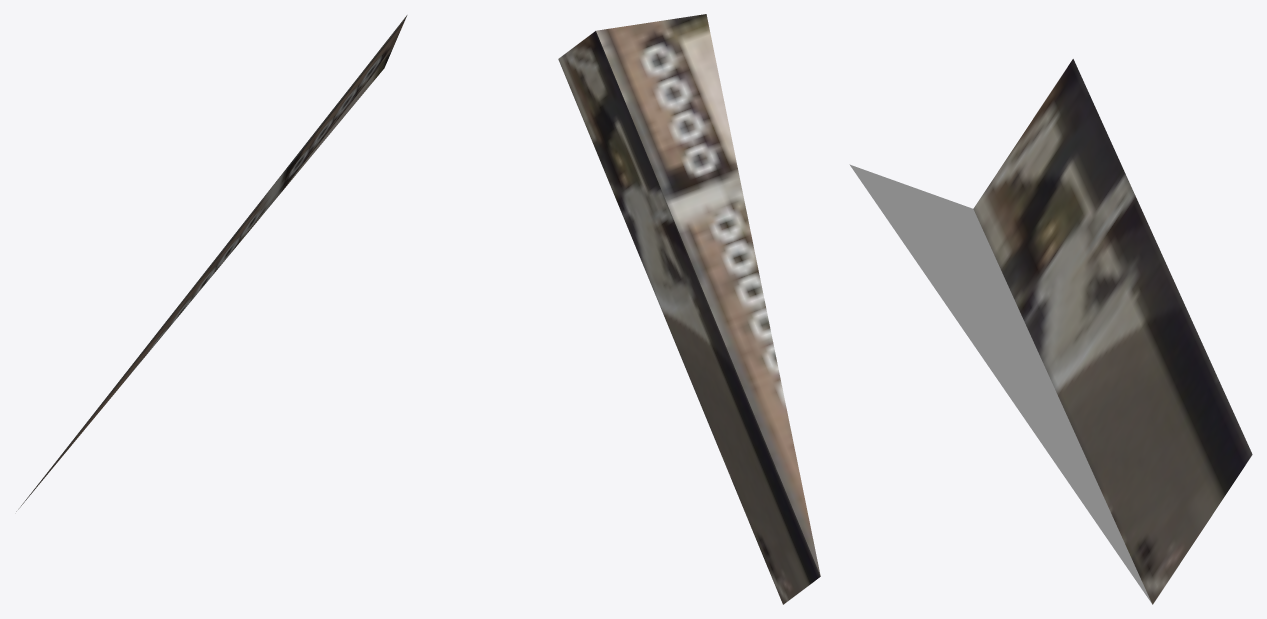
File: 39547_bldg_Building.glb
3 views of the same model, side by side, from view 1: azimuth 30°, elevation 25°; view 2: azimuth 150°, elevation 25°; view 3: azimuth 270°, elevation 25° (orthographic). The views are drawn at different scales.
Size of the model in its own units: 33.18 by 43.65 by 23.05.
Materials: 3 (2 with a texture image).
